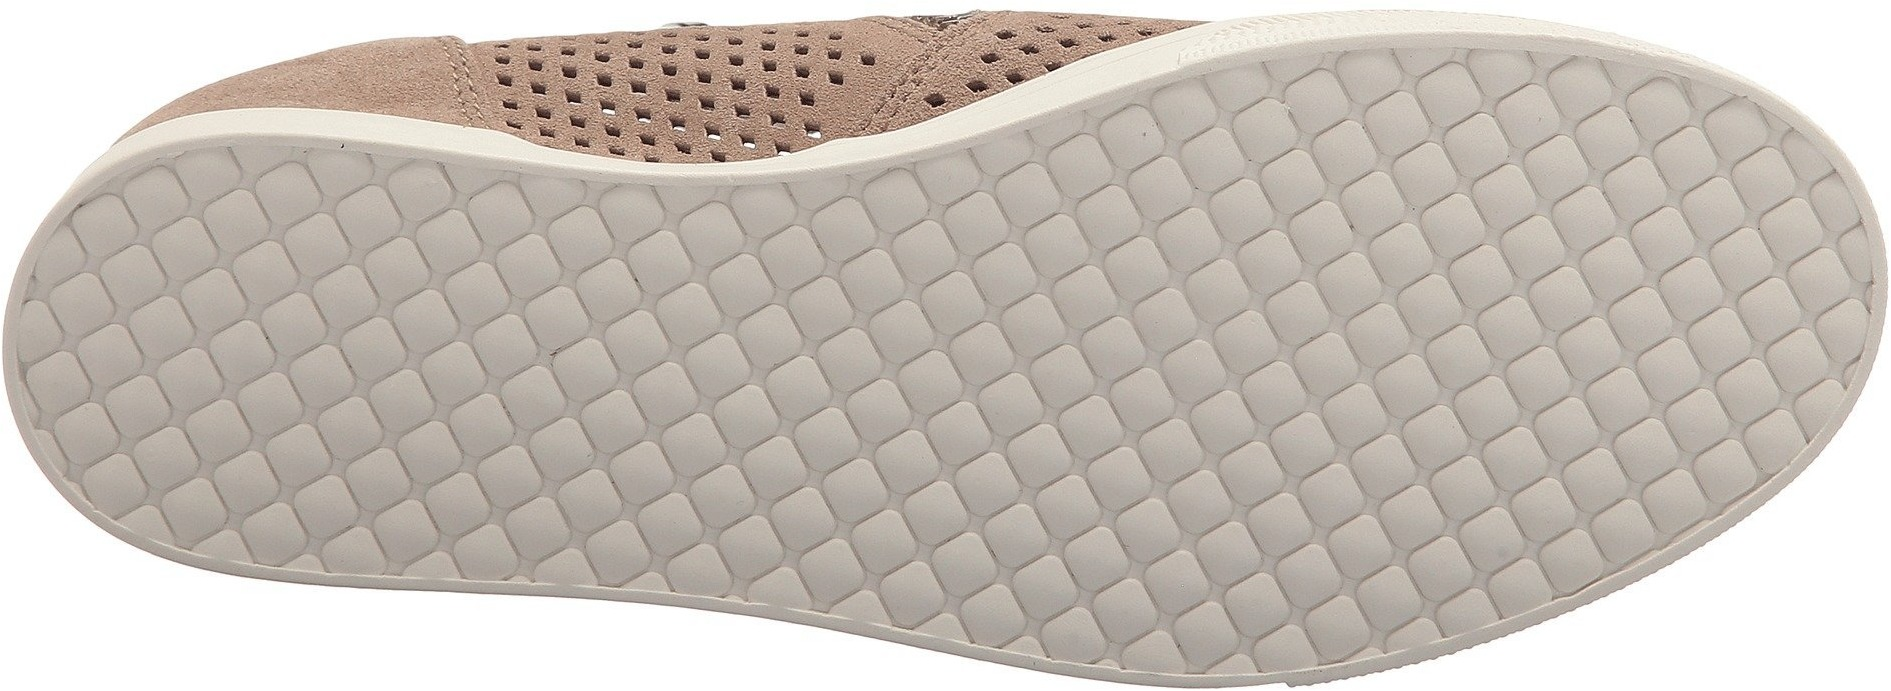quad: (595, 187, 987, 585), (1255, 78, 1586, 398), (59, 217, 336, 482), (1001, 392, 1280, 656), (1592, 136, 1849, 411), (996, 144, 1248, 385), (334, 191, 585, 431), (1307, 402, 1534, 613), (353, 445, 503, 584), (1541, 414, 1662, 558)
